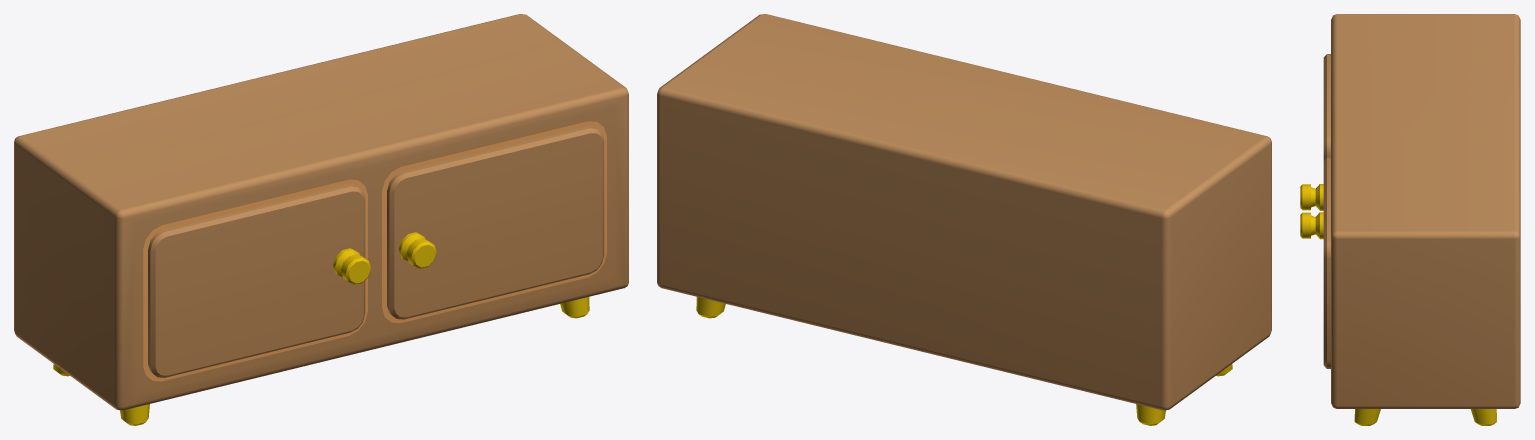
Rendered from Wardrobe_43.fbx.
3 renders of one model, left to right at view 1: azimuth 30°, elevation 25°; view 2: azimuth 150°, elevation 25°; view 3: azimuth 270°, elevation 25°, orthographic. The views are drawn at different scales.
Visible parts, largest first — view 1: Wardrobe_43, Wardrobe_43 Door_1, Wardrobe_43 Door_2; view 2: Wardrobe_43; view 3: Wardrobe_43, Wardrobe_43 Door_2, Wardrobe_43 Door_1.
Part boxes in pixels (x1,y1,x2,y2): Wardrobe_43: (14,14,628,425); Wardrobe_43 Door_1: (148,185,370,377); Wardrobe_43 Door_2: (387,126,604,319); Wardrobe_43: (657,14,1271,425); Wardrobe_43: (1331,14,1520,425); Wardrobe_43 Door_2: (1300,157,1330,368); Wardrobe_43 Door_1: (1300,54,1330,210).
Size of the model in its own units: 0.9384 by 0.404 by 0.3936.
